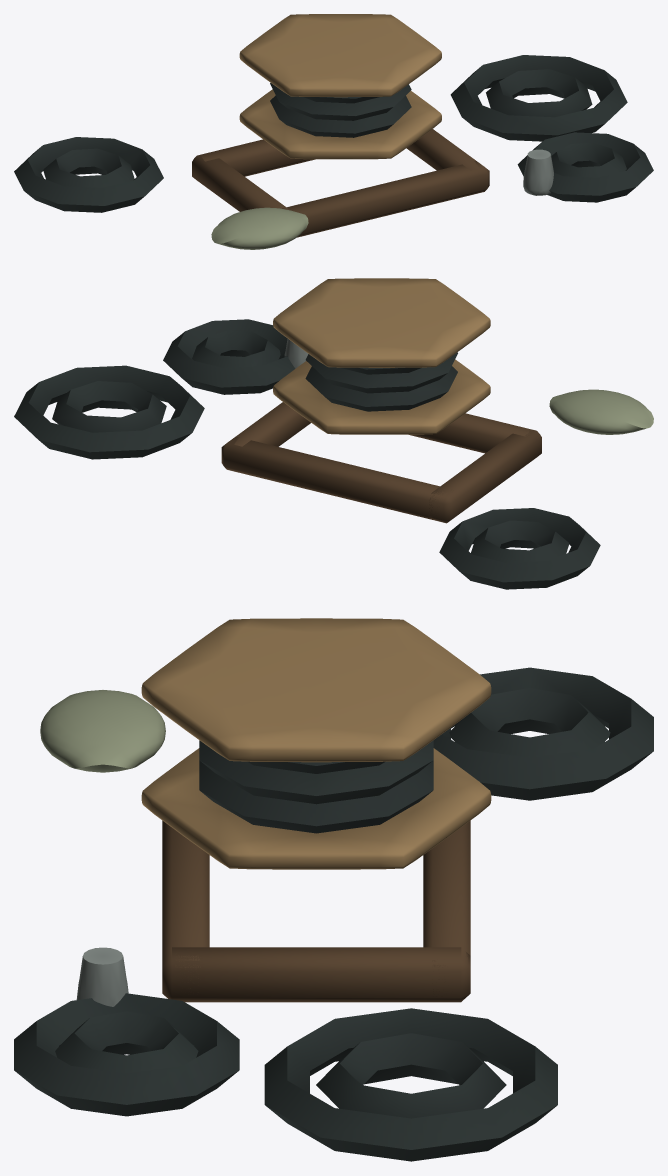
File: hose_reel_b.glb
3 renders of one model, top to bottom at view 1: azimuth 30°, elevation 25°; view 2: azimuth 150°, elevation 25°; view 3: azimuth 270°, elevation 25°, orthographic. The views are drawn at different scales.
Parts seen in each view (by area): view 1: Surface; view 2: Surface; view 3: Surface.
Boxes of the visible parts, <box> form: Surface: <box>14,14,653,249</box>; Surface: <box>14,278,653,589</box>; Surface: <box>14,618,653,1161</box>.
Size of the model in its own units: 4.7 by 1.1 by 2.7.
